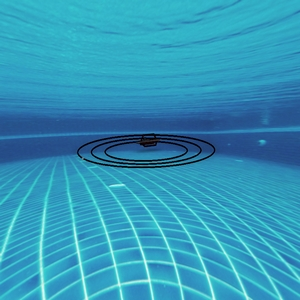circle: (68, 124, 227, 191)
